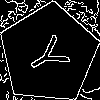Y: (24, 29, 79, 80)
